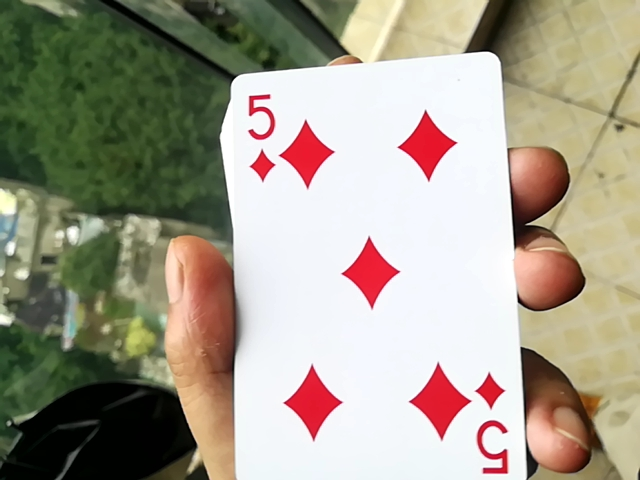fk 5: (201, 53, 540, 480)
